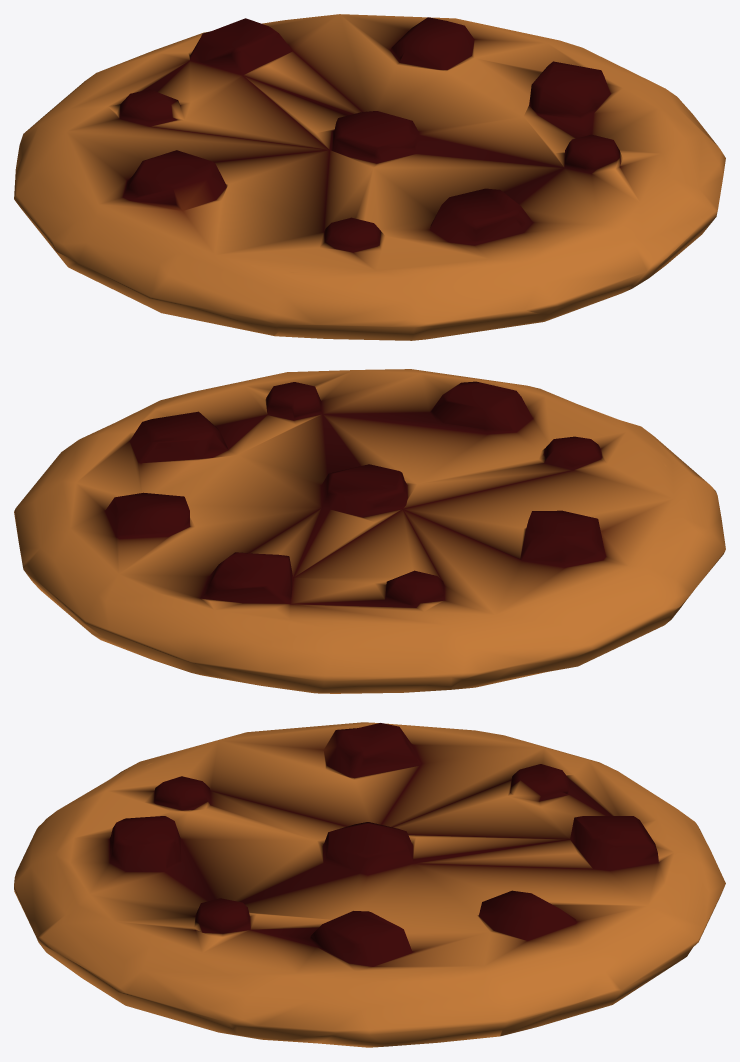
The model's file is gen3d-chocolate-chip-cookie-lod1.glb.
3 renders of one model, top to bottom at view 1: azimuth 30°, elevation 25°; view 2: azimuth 150°, elevation 25°; view 3: azimuth 270°, elevation 25°, orthographic.
Visible parts, largest first — view 1: part_0; view 2: part_0; view 3: part_0.
Part boxes in pixels (bbox=[...]): part_0: bbox=[14, 14, 725, 340]; part_0: bbox=[14, 369, 725, 693]; part_0: bbox=[14, 722, 725, 1047].
Bounding box in the file's own units: 6.83 × 0.9904 × 6.81.
